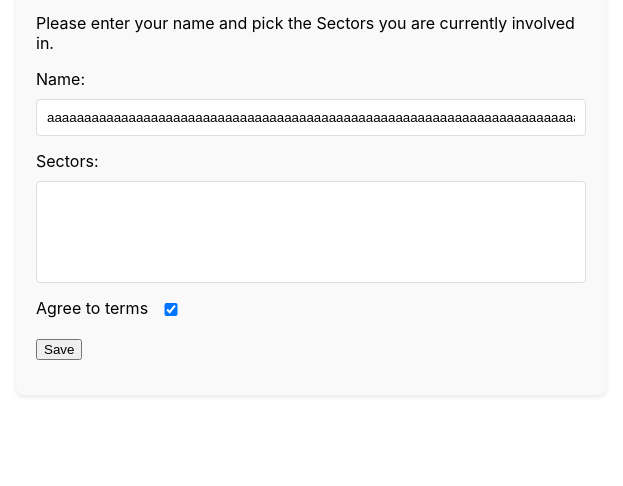
Test: having no sectors selected will show an error
Replace the text in the field labelled "Name:" with "Aivar". click: (311, 118)
box: [36,99,586,136]
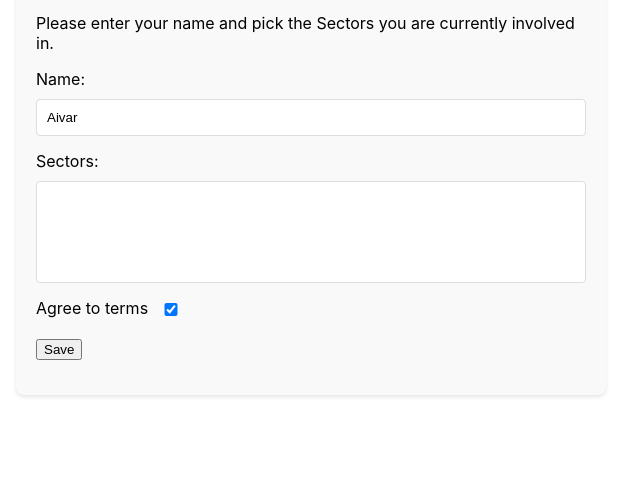
Click the button "Save". click: click(59, 350)
box: [36,339,82,360]
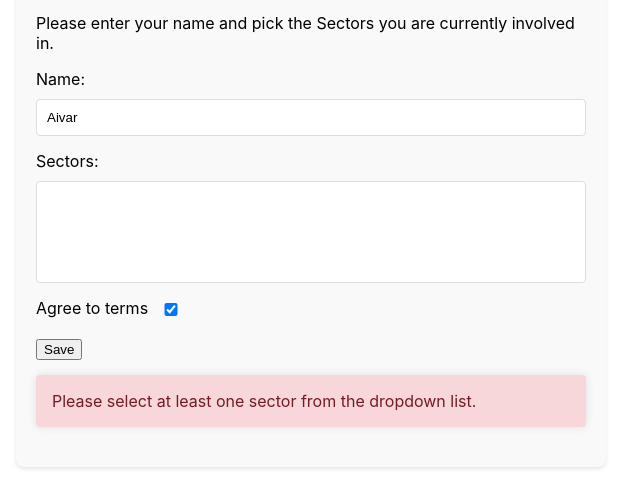
Result: the message reads "Please select at least one sector from the dropdown list." at [52,391,476,411]
